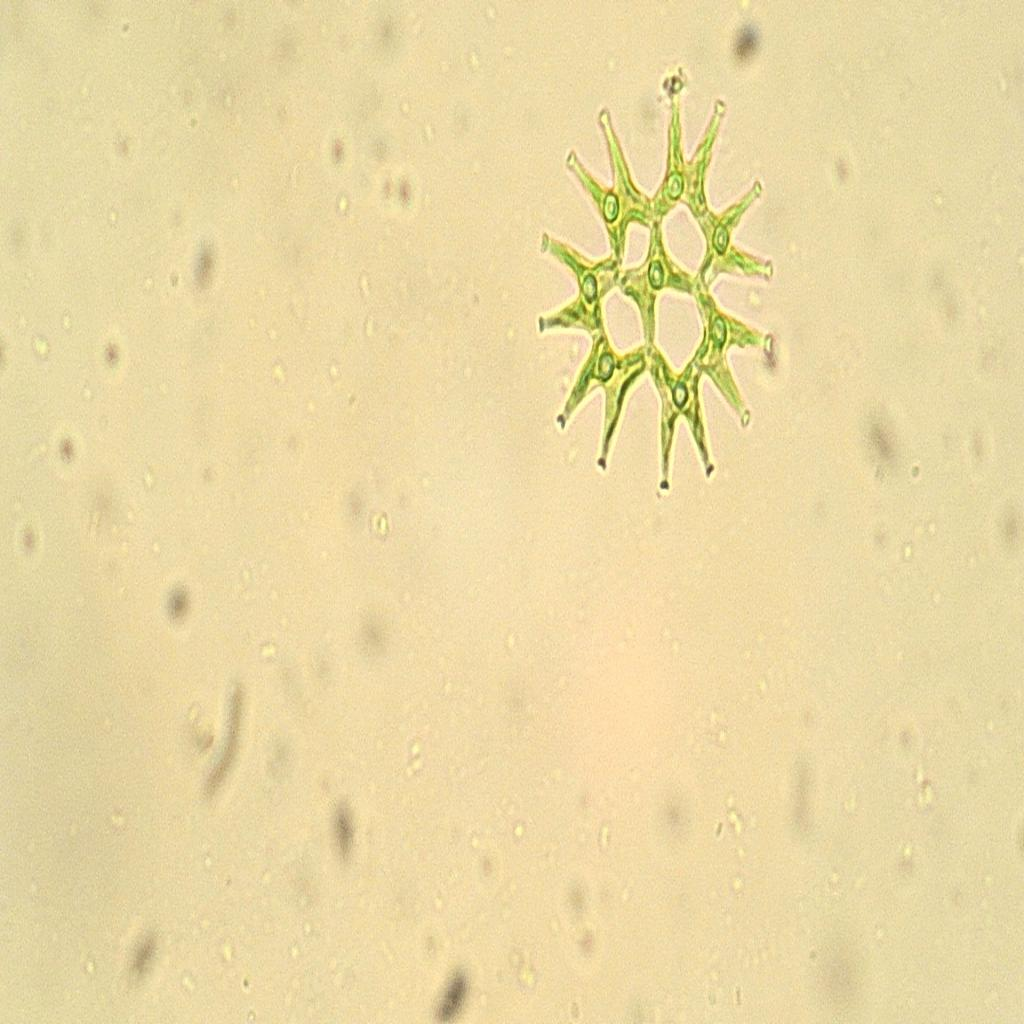Pediastrum_CTH: (514, 64, 800, 510)
